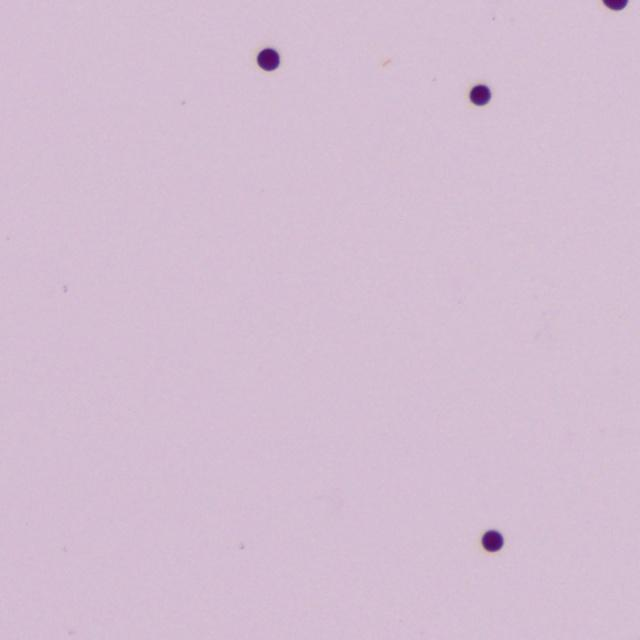viable: (257, 48, 279, 70), (481, 530, 503, 552), (469, 84, 491, 105), (602, 0, 628, 10)
